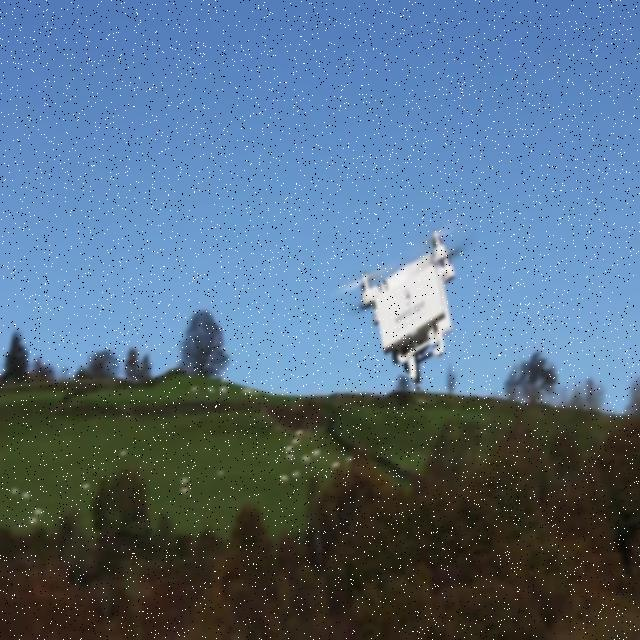UAV: (361, 230, 456, 390)
